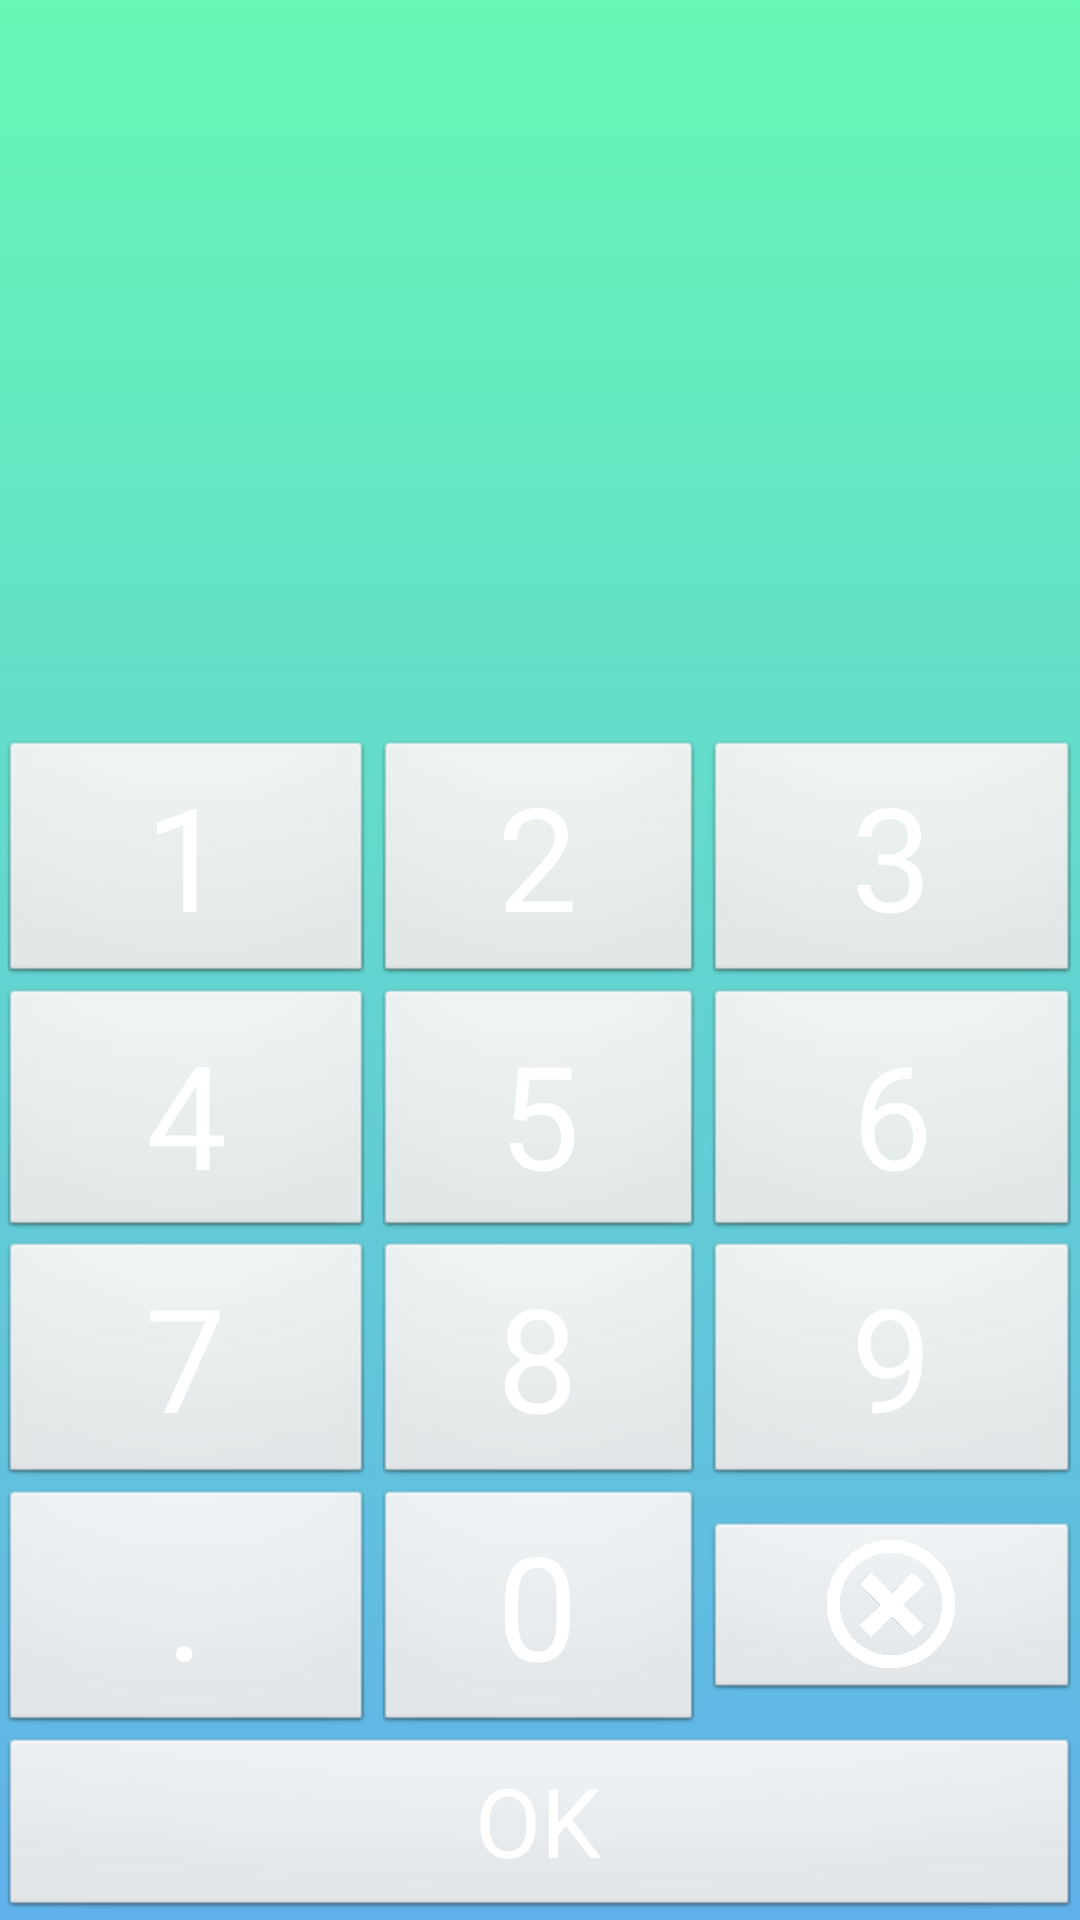

Locate icon controls on the screen. Image size 1080*1920, boxes as (x1, y1, x2, y2).
xmark: (713, 1523, 1071, 1689)
